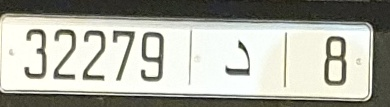2: (52, 28, 76, 80), (82, 29, 105, 81)
3: (23, 28, 47, 79)
7: (112, 29, 136, 79)
8: (323, 34, 348, 86)
9: (140, 31, 164, 83)
d: (224, 39, 252, 77)
